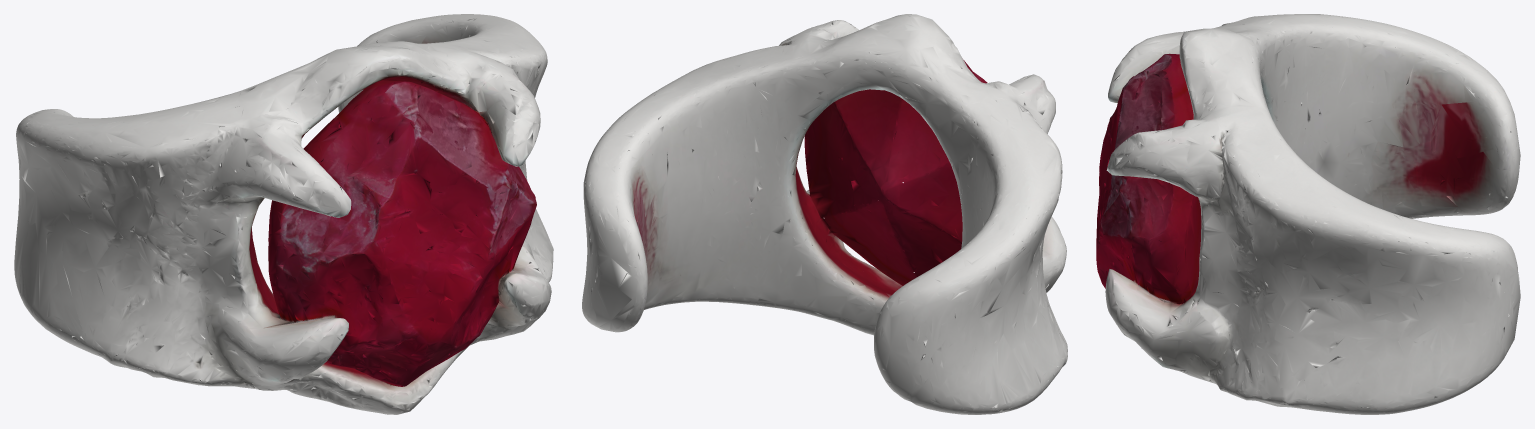
File: eq_ring.glb
3 renders of one model, left to right at view 1: azimuth 30°, elevation 25°; view 2: azimuth 150°, elevation 25°; view 3: azimuth 270°, elevation 25°, orthographic. The views are drawn at different scales.
Visible parts, largest first — view 1: tripo_node_a04220ba-5008-432b-ae8e-57483215cea7; view 2: tripo_node_a04220ba-5008-432b-ae8e-57483215cea7; view 3: tripo_node_a04220ba-5008-432b-ae8e-57483215cea7.
Part boxes in pixels (x1,y1,x2,y2): tripo_node_a04220ba-5008-432b-ae8e-57483215cea7: (14,14,553,414); tripo_node_a04220ba-5008-432b-ae8e-57483215cea7: (582,14,1067,414); tripo_node_a04220ba-5008-432b-ae8e-57483215cea7: (1096,14,1520,414).
Size of the model in its own units: 0.05 by 0.0354 by 0.0416.
Materials: 1 (1 with a texture image).
